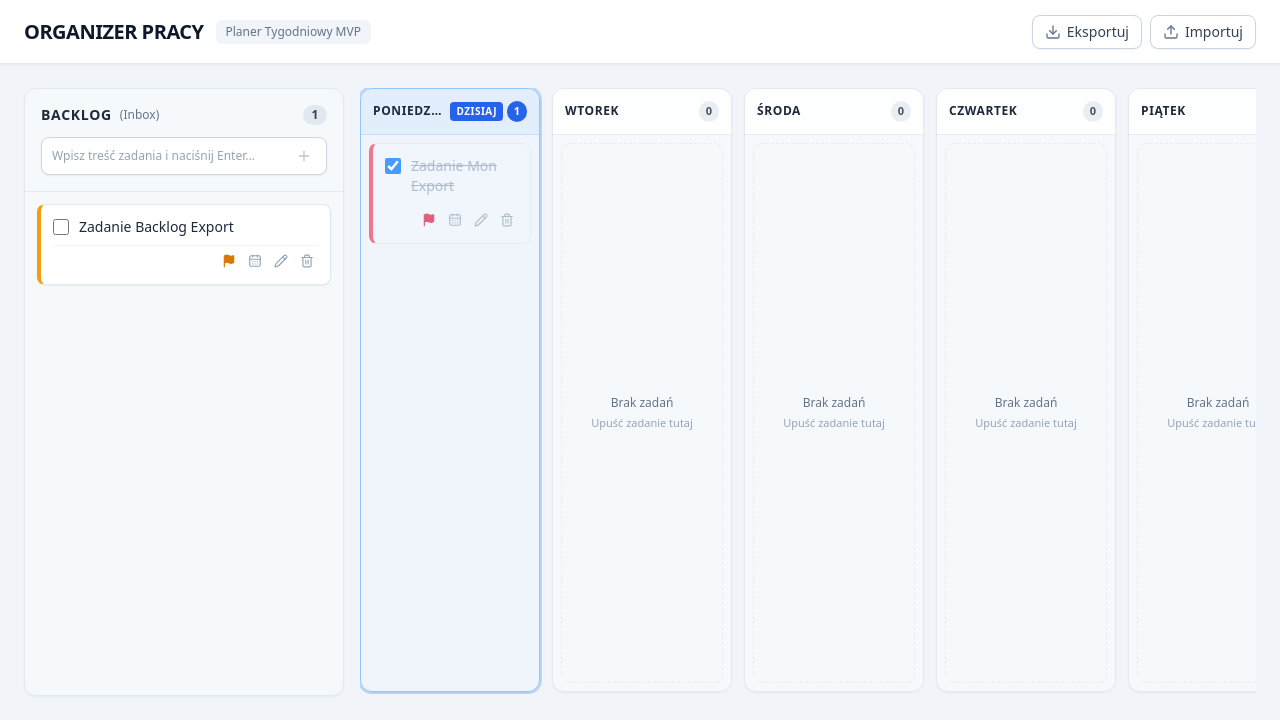
Test: App Layout Integration › Backup and restore integration (Export & Import in App) › exports all application tasks to JSON when clicking the Header Export button
Click the button with test id "export-backup-btn" at (1087, 32), box [1032,14,1142,48]
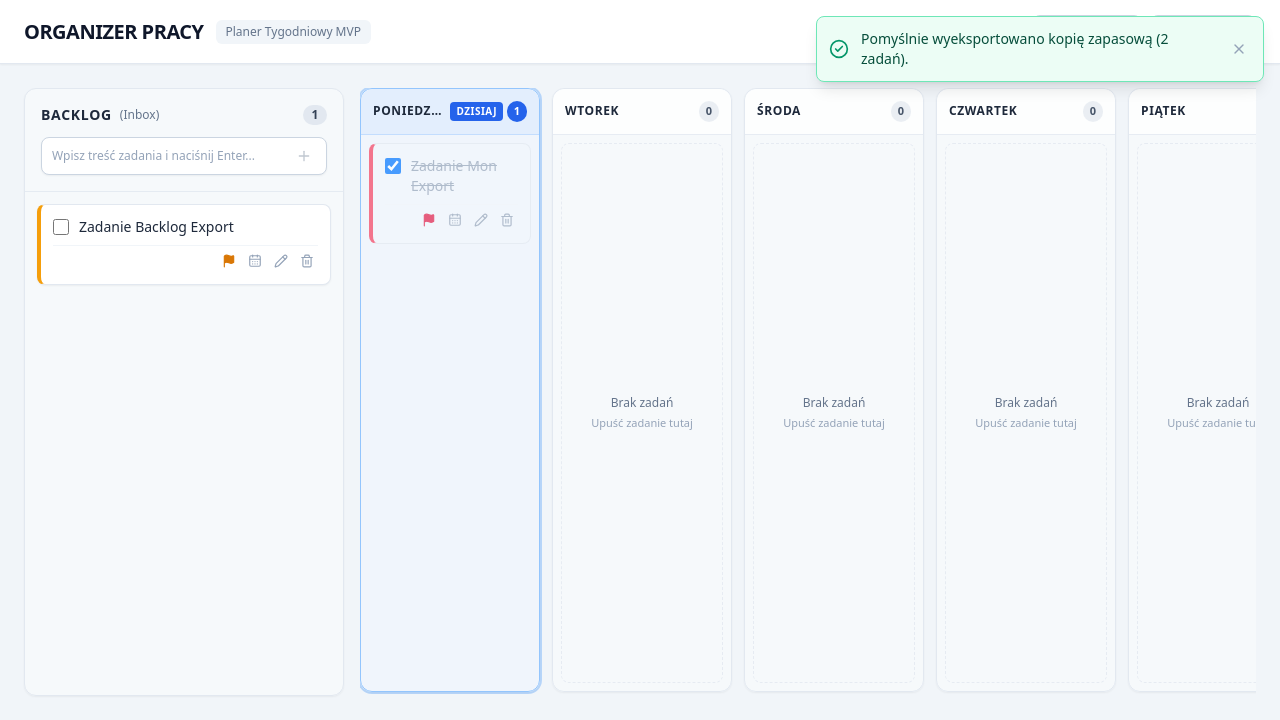
Result: the message "Pomyślnie wyeksportowano kopię zapasową (2 zadań)." is shown at [816,16,1264,82]
Result: the text with test id "backup-notification-message" reads "Pomyślnie wyeksportowano kopię zapasową (2 zadań)." at [861,29,1168,68]
